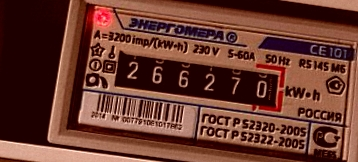0: (254, 78, 270, 100)
2: (124, 59, 142, 81), (201, 71, 218, 93)
6: (150, 63, 166, 86), (176, 68, 192, 90)
7: (227, 75, 242, 95)
screen: (104, 39, 294, 119)
